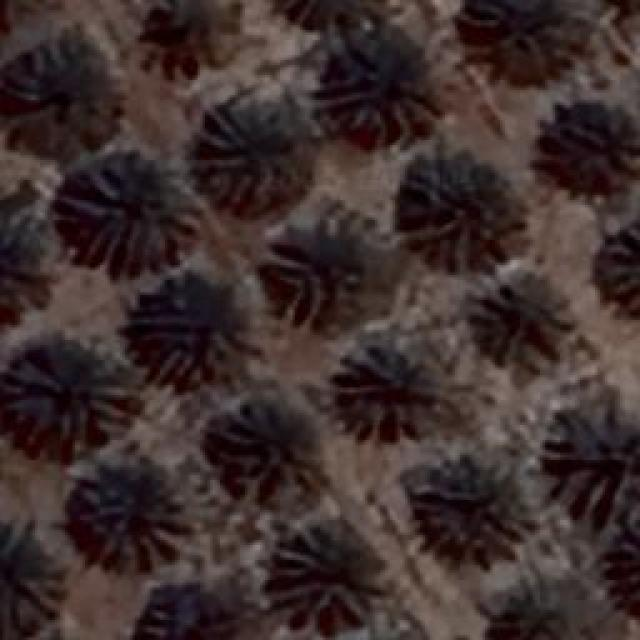PalmTree: (62, 152, 200, 270), (395, 150, 523, 270), (201, 94, 314, 214), (322, 22, 436, 136), (408, 451, 522, 559), (268, 525, 380, 625), (211, 385, 314, 493), (82, 454, 188, 556), (138, 281, 254, 374), (15, 49, 120, 149), (268, 224, 384, 314), (9, 344, 122, 434), (338, 338, 436, 436), (552, 402, 638, 508), (545, 102, 640, 196), (0, 186, 58, 332), (470, 0, 590, 70), (480, 280, 570, 365), (0, 517, 62, 640), (142, 0, 242, 68), (145, 580, 243, 640), (492, 580, 588, 640), (267, 0, 404, 31), (600, 522, 640, 620), (598, 220, 638, 312)
